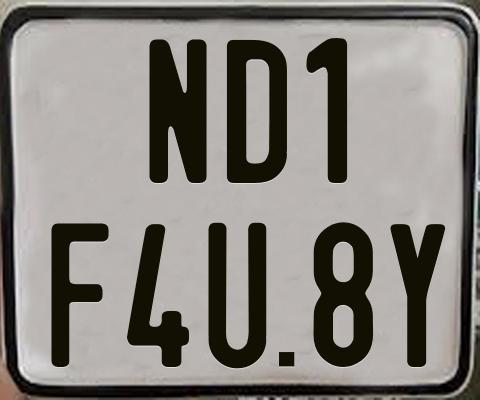1: (305, 35, 346, 186)
4: (126, 221, 191, 364)
8: (310, 220, 370, 369)
D: (225, 40, 290, 184)
F: (48, 222, 112, 372)
N: (147, 39, 205, 183)
U: (205, 220, 269, 367)
Y: (388, 221, 443, 365)
